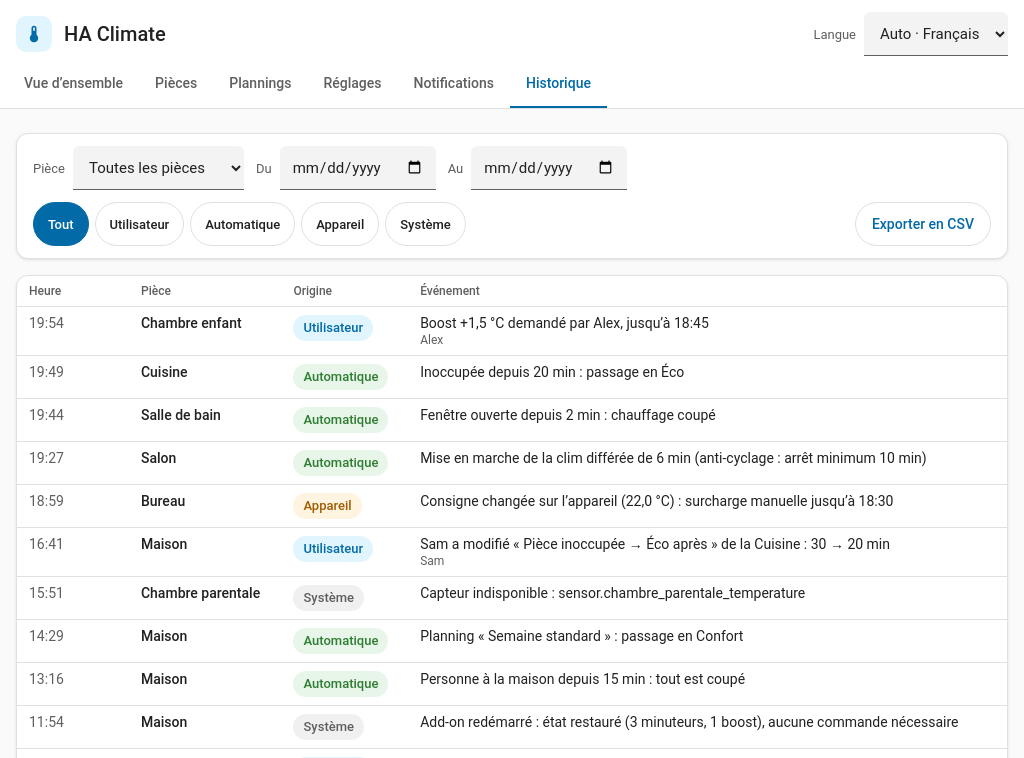
Scenario: HistoryPage › filters by origin pill
What coordinates should you click on to do the following:
click the button with test id "origin-device"
I would click on:
 (340, 224)
Its box is [301,202,379,246].
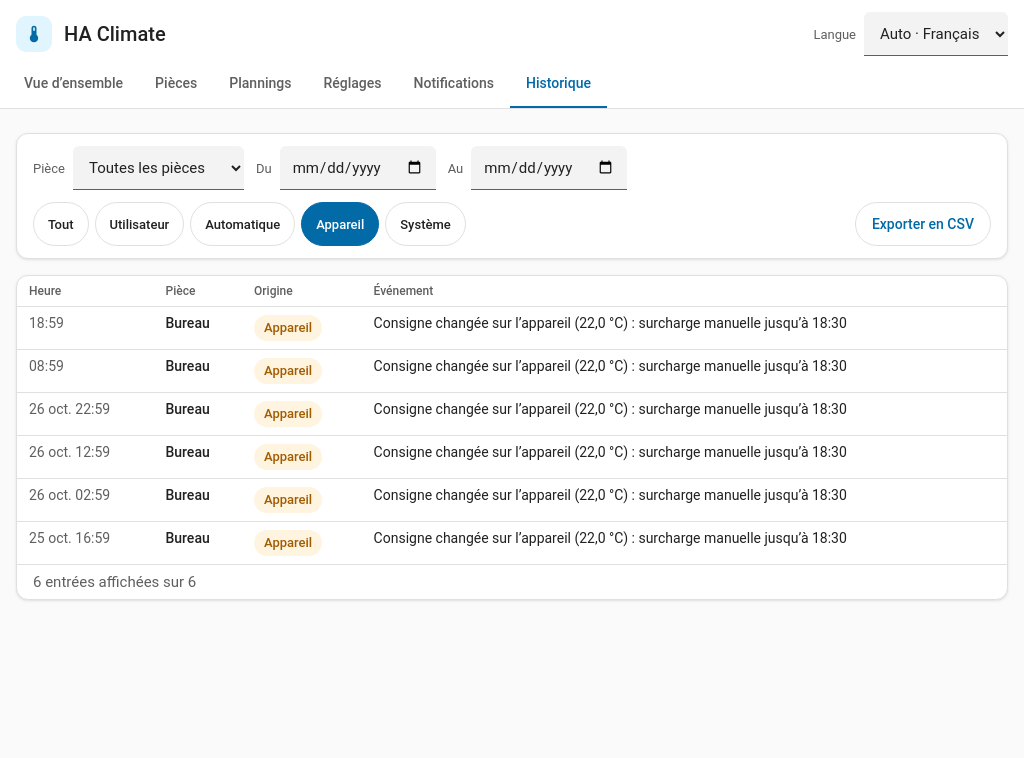
expect the number of rows with test id "entry" is 6: met, box [17,306,1007,350]; [17,350,1007,392]; [17,392,1007,436]; [17,436,1007,478]; [17,478,1007,522]; [17,522,1007,564]
What coordinates should you click on to do the following:
click the button with test id "origin-all"
I would click on:
 (61, 224)
Its box is [33,202,88,246].
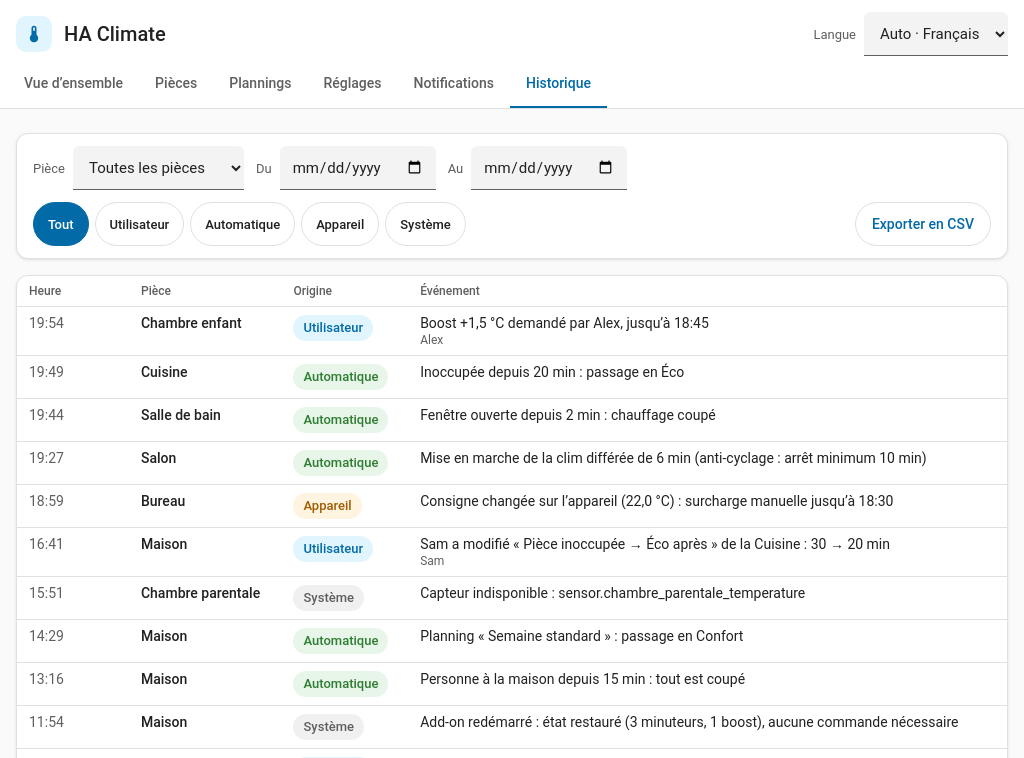
expect the number of rows with test id "entry" is 50: met
